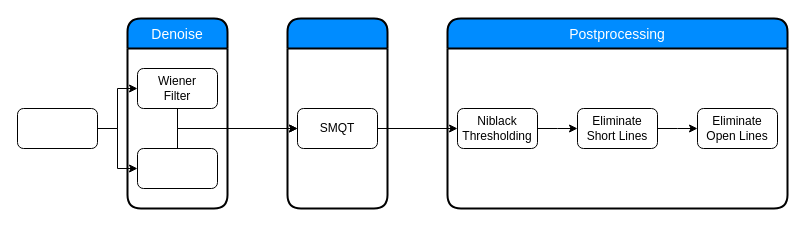
The diagram is 806 pixels wide and 226 high, and some of its shapes have lost their labels. Here are the shapes that lost their labels. From the top down, the centre of each, then its label:
At (x=57, y=128): "Input Image".
At (x=337, y=113): "Enhance".
At (x=177, y=168): "Bilateral Filtering".
